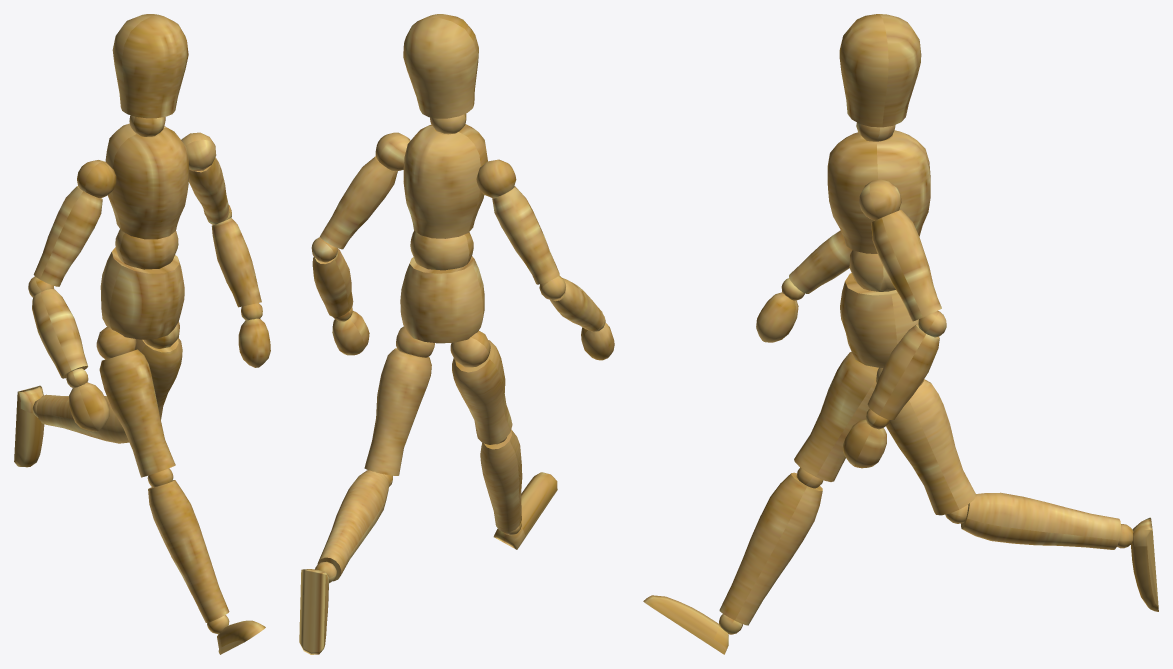
The model's file is wooddoll.obj.
3 renders of one model, left to right at view 1: azimuth 30°, elevation 25°; view 2: azimuth 150°, elevation 25°; view 3: azimuth 270°, elevation 25°, orthographic. The views are drawn at different scales.
Visible parts, largest first — view 1: Figure_4; view 2: Figure_4; view 3: Figure_4.
Part boxes in pixels (x1,y1,x2,y2): Figure_4: (14, 14, 270, 654); Figure_4: (299, 14, 614, 654); Figure_4: (643, 14, 1158, 654).
Size of the model in its own units: 0.2799 by 0.6555 by 0.4815.
Materials: 2 (2 with a texture image).
